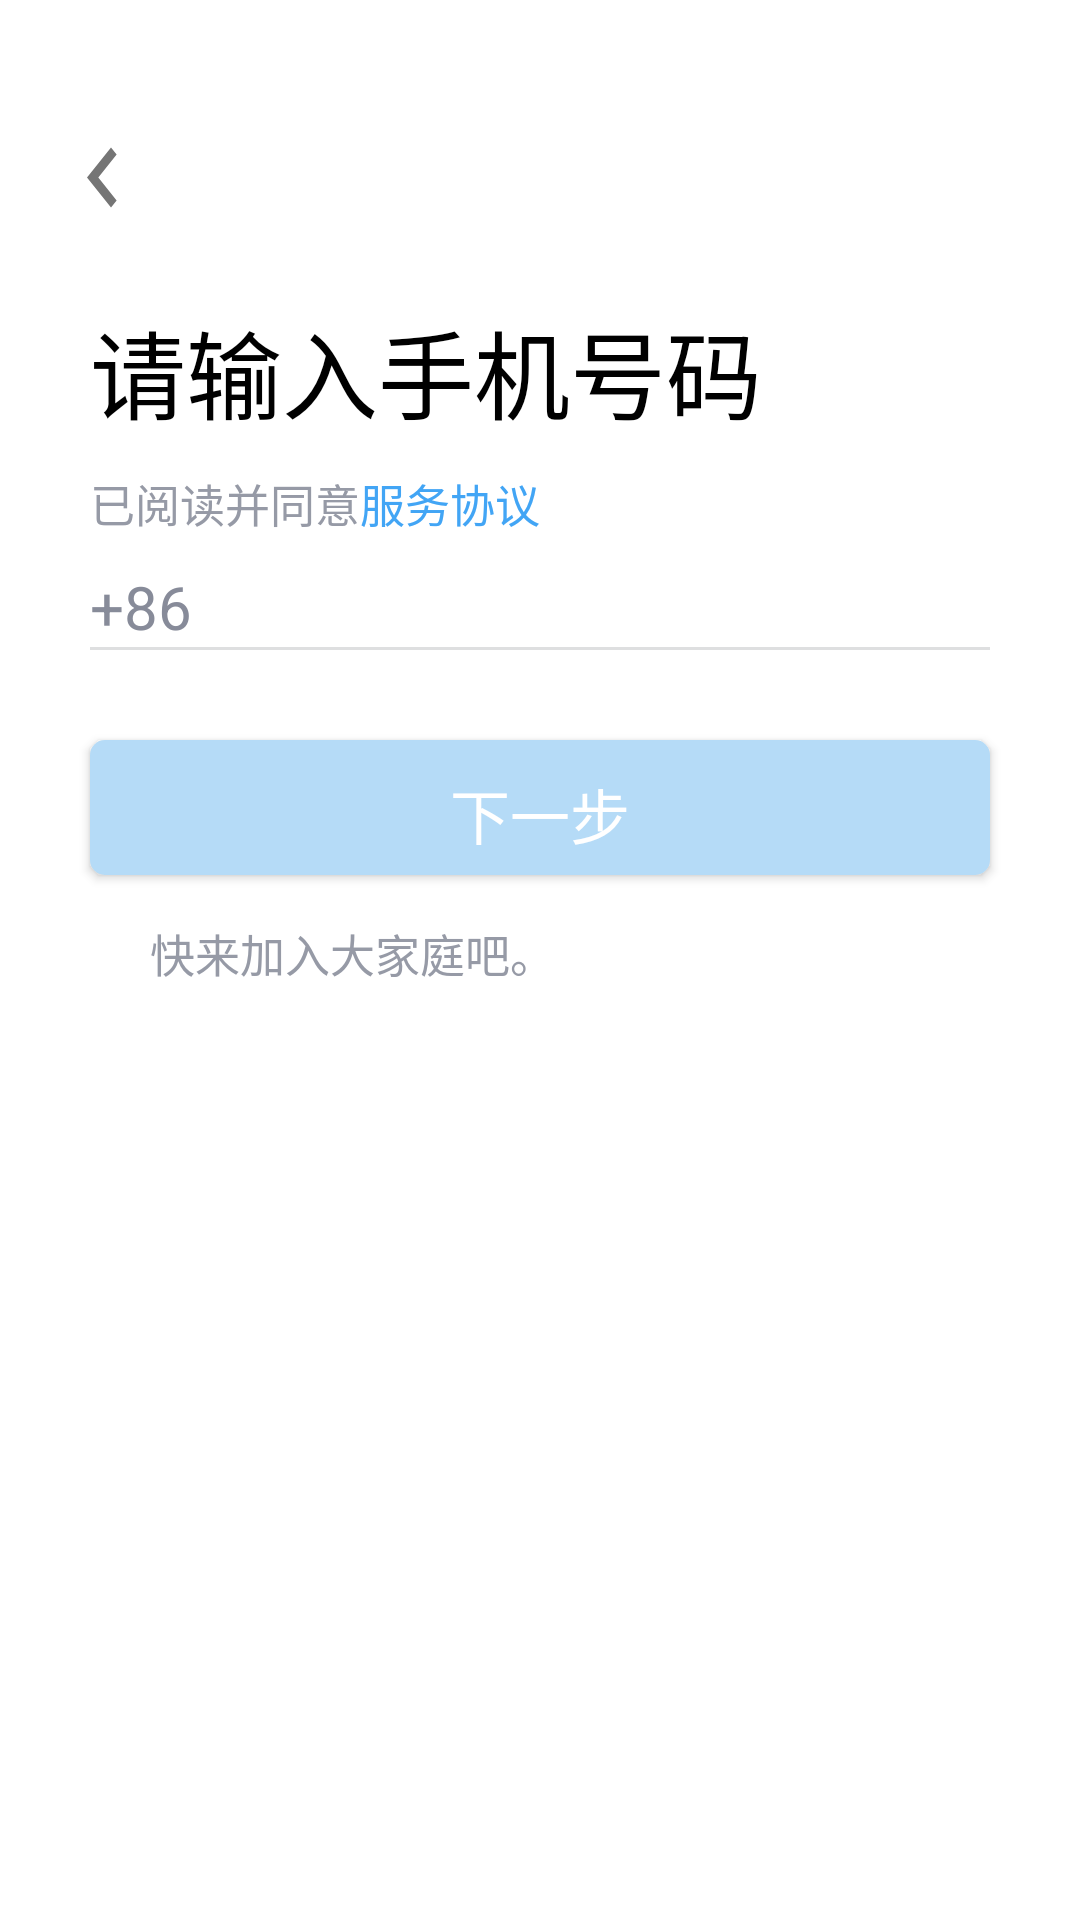

Locate icon controls on the screen. Image size 1080*1920, boxes as (x1=x1, y1=y1, x2=x2, y2=y2).
back: (x1=87, y1=148, x2=117, y2=207)
